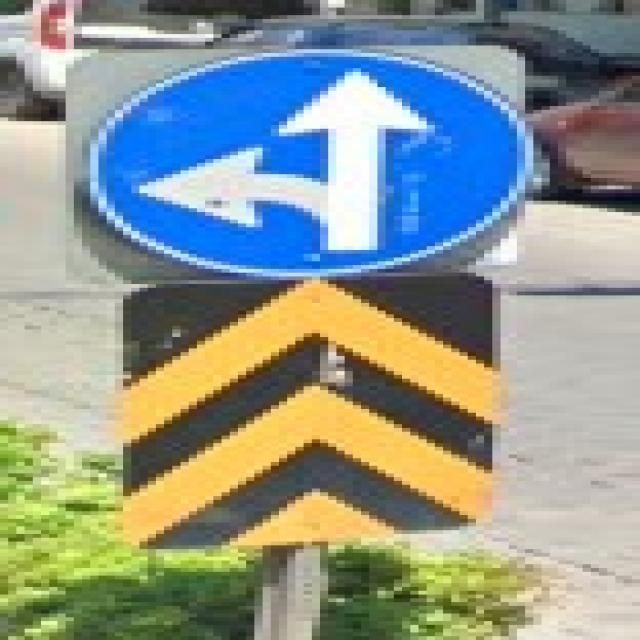Straight or Left: (87, 47, 530, 278)
